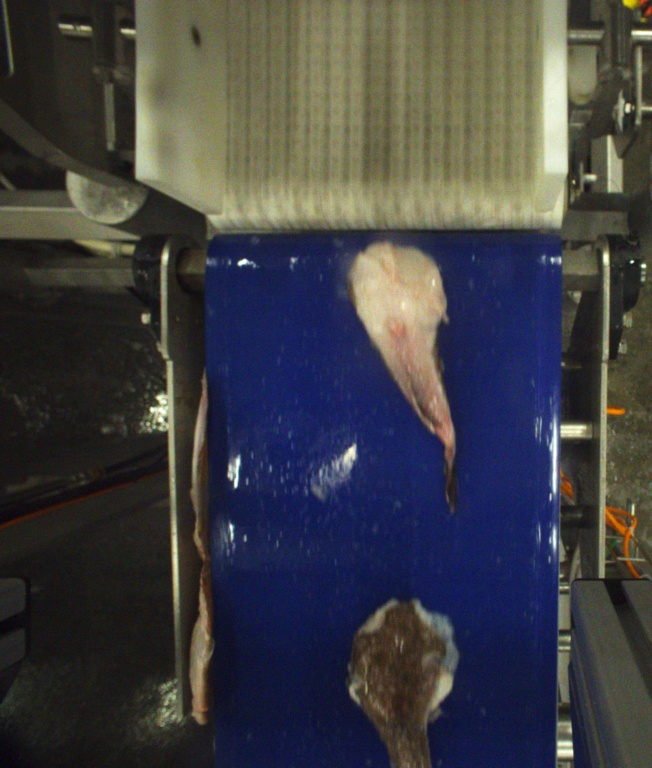ANF: (350, 241, 458, 515)
